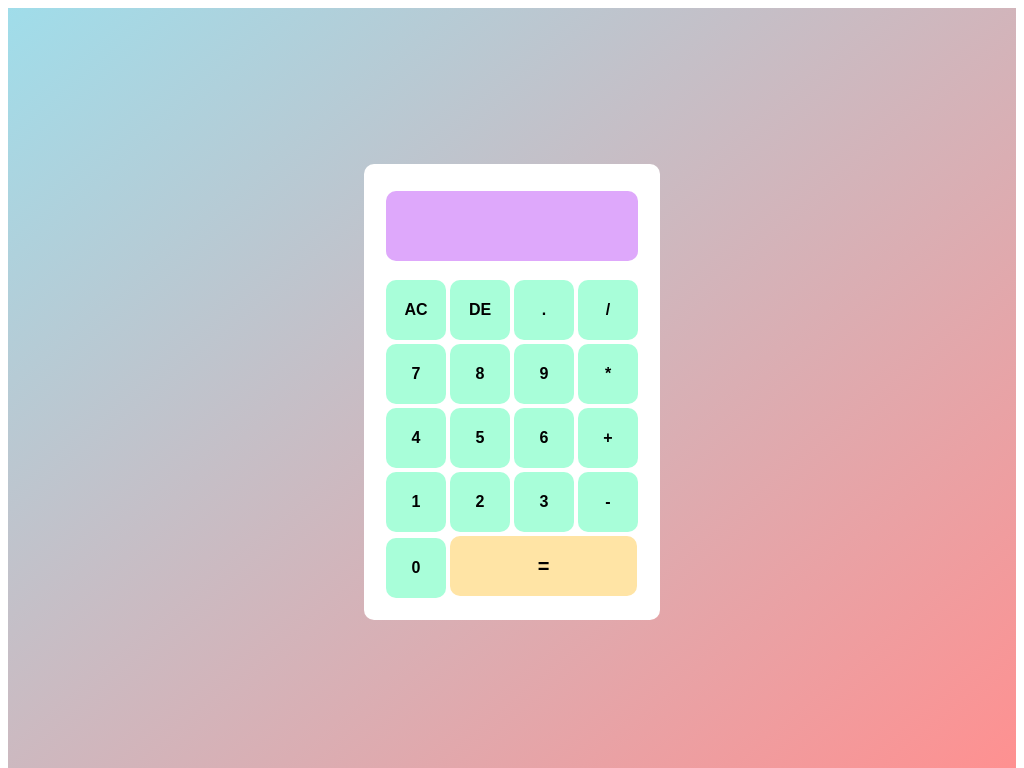
Test: Calculatrice › Affiche les chiffres cliqués dans l'input
Step 1. Click the button "7" → click(416, 374), box [386,344,446,404]
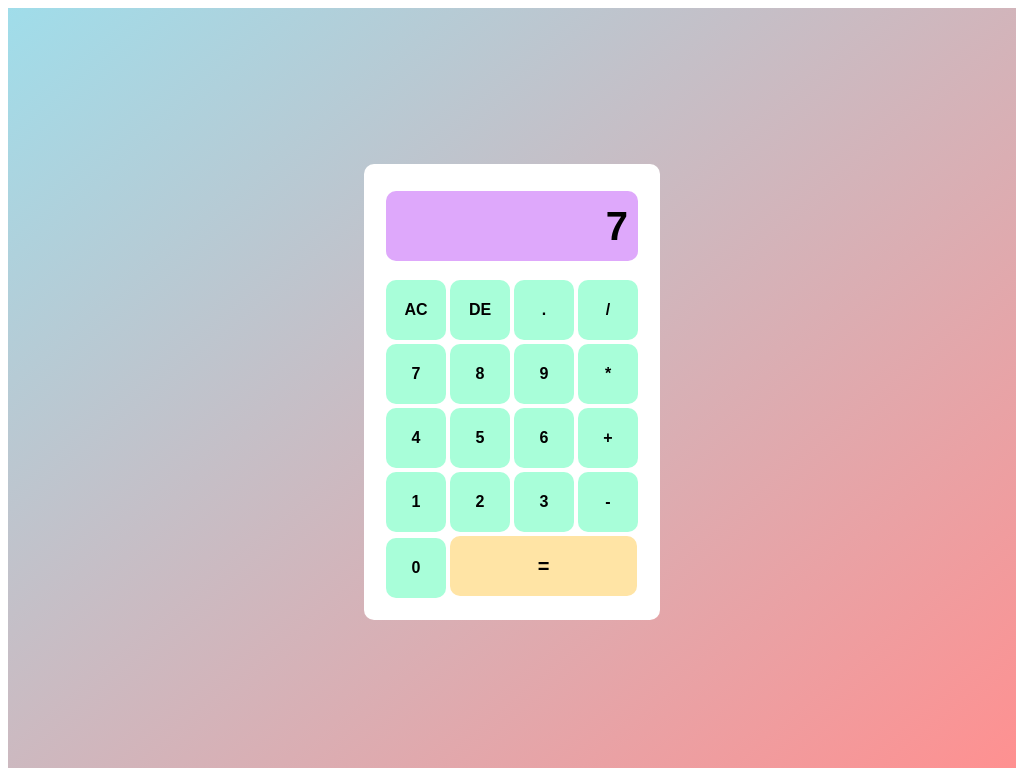
Step 2. Click the button "3" → click(544, 502), box [514,472,574,532]
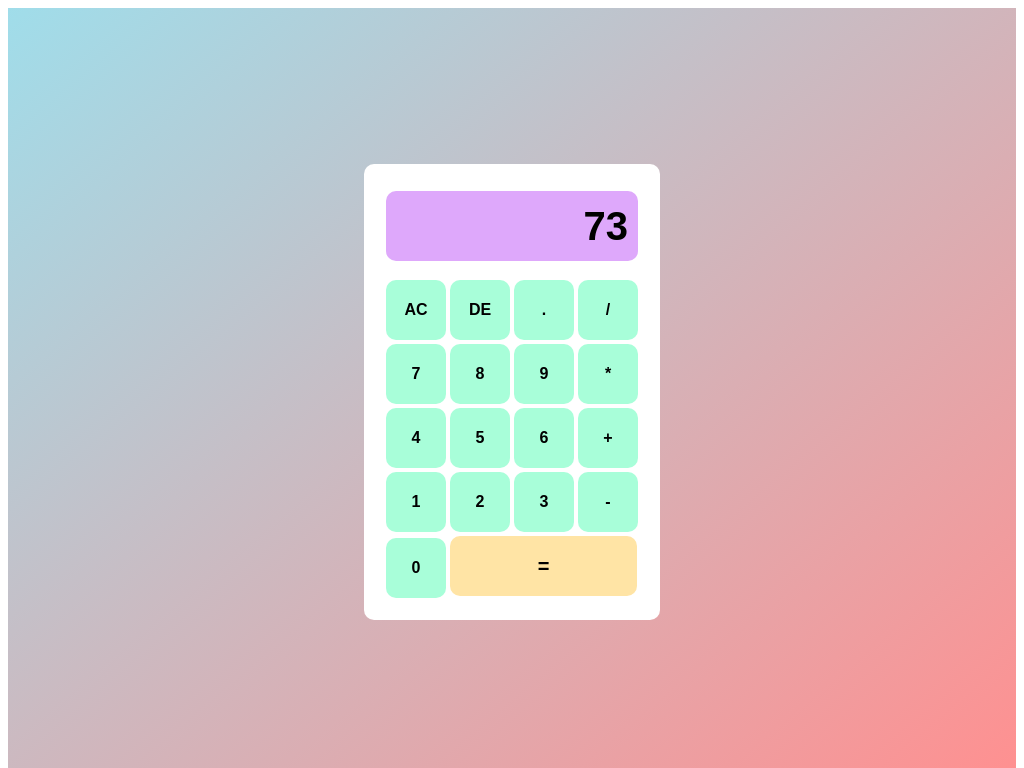
expect the field holds "73": met, box [386,191,638,261]
